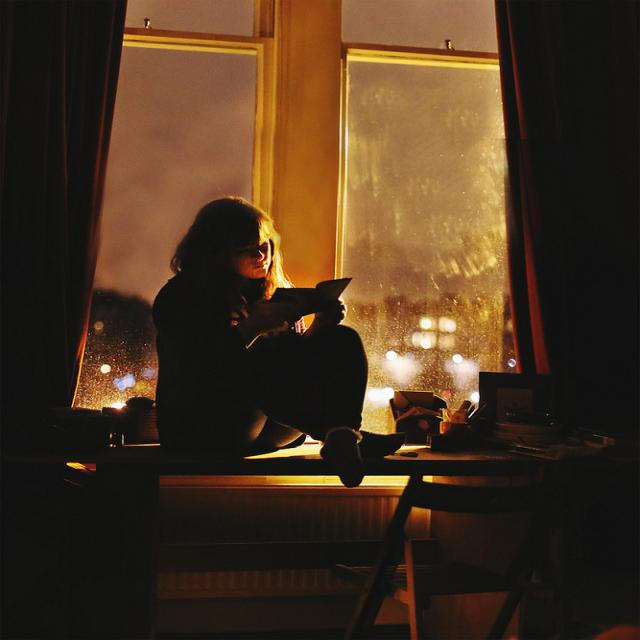People: (141, 159, 408, 481)
Table: (0, 415, 568, 639)
chair: (319, 436, 602, 640), (468, 351, 576, 429)
